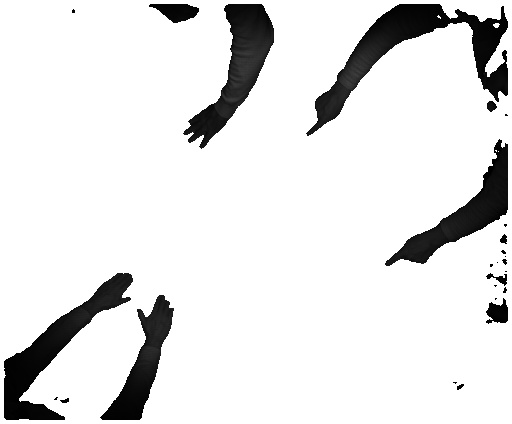hand: (176, 107, 225, 151), (84, 272, 136, 313), (137, 290, 175, 344), (384, 233, 434, 271), (304, 90, 346, 135)
